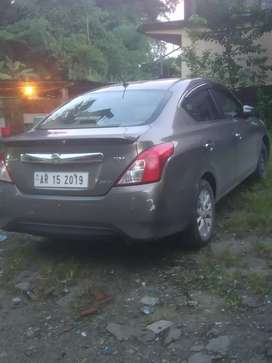AR152019: (34, 171, 88, 188)
